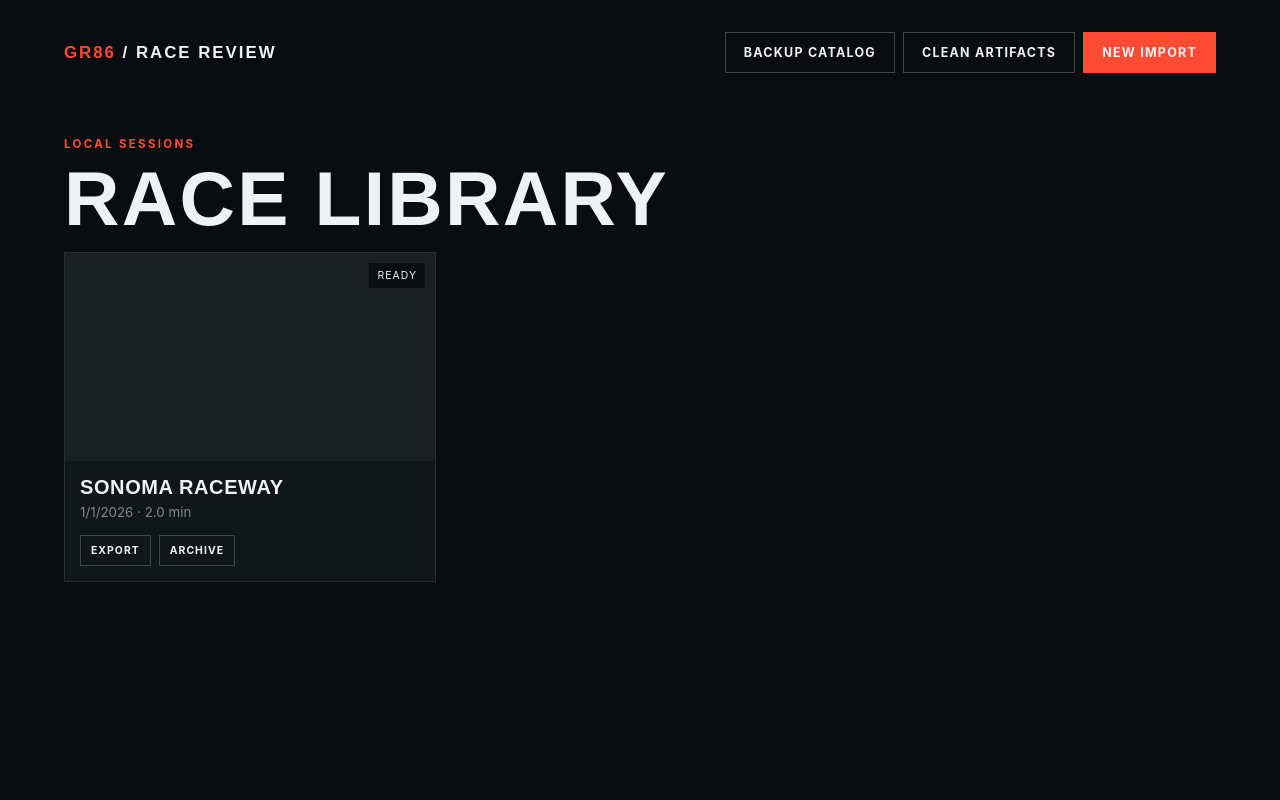
Test: library archive workflow › moves a session to the recoverable list after archive confirmation
Check: the heading "Race library" is shown, box [64,154,669,240]
Click the button "Archive" at (197, 551), box [159,536,235,566]
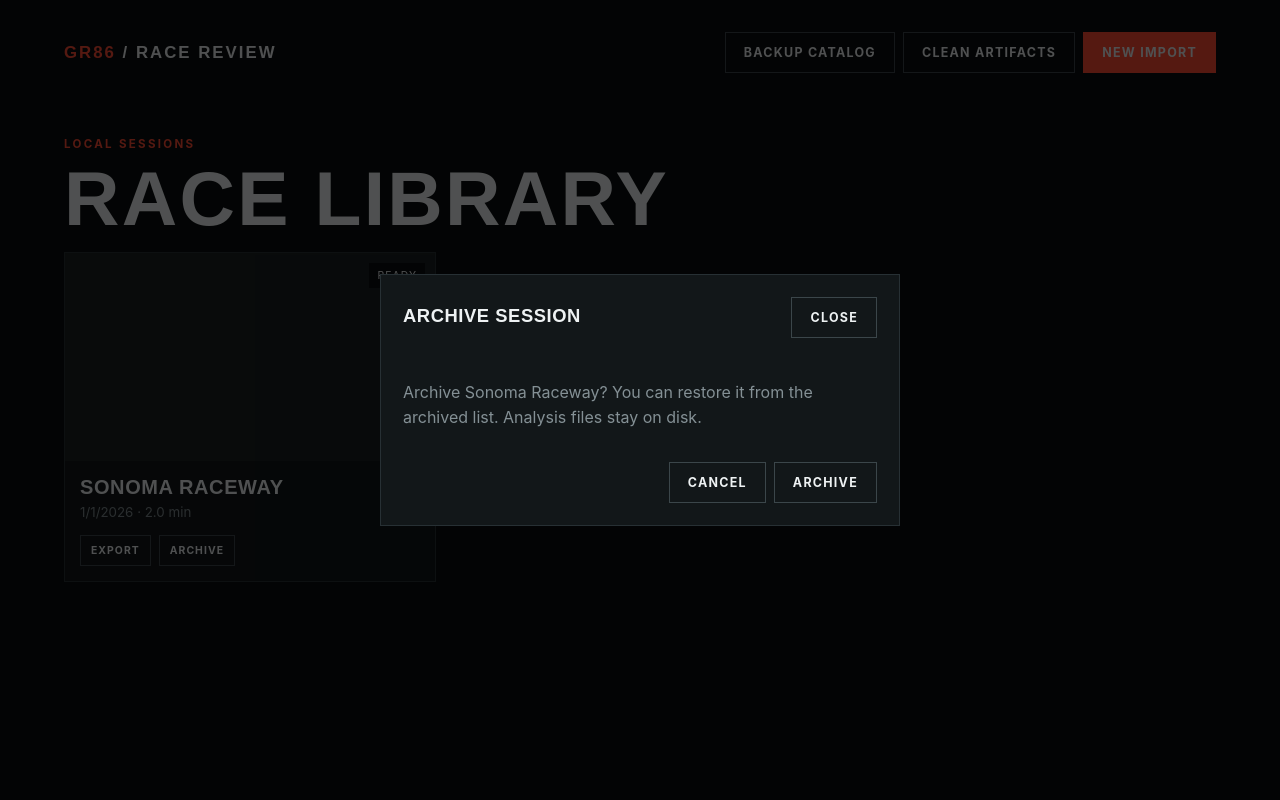
Click the button "Archive" at (825, 482), box [774,462,877,503]
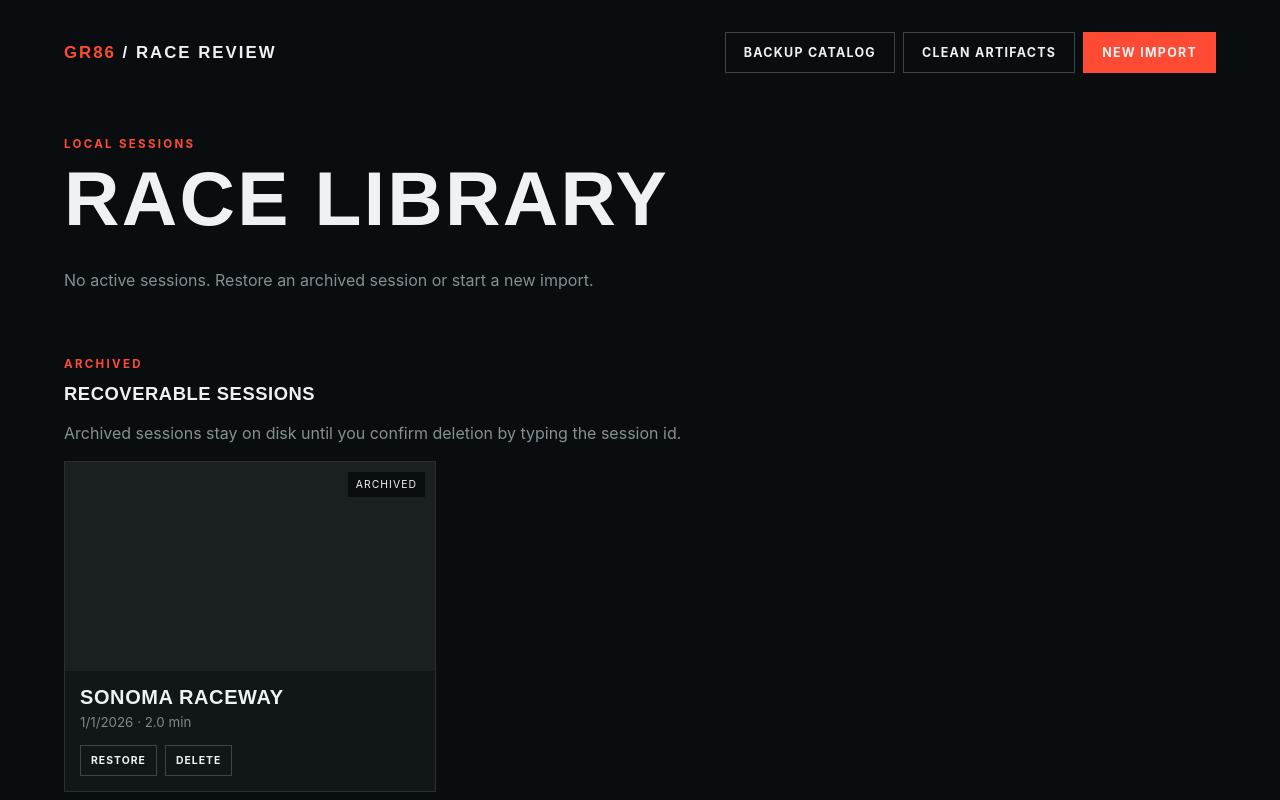
Check: the heading "Recoverable sessions" is shown, box [64,383,315,404]
Check: the button "Restore" is shown, box [80,745,157,776]
Check: the button "Delete" is shown, box [165,745,232,776]
